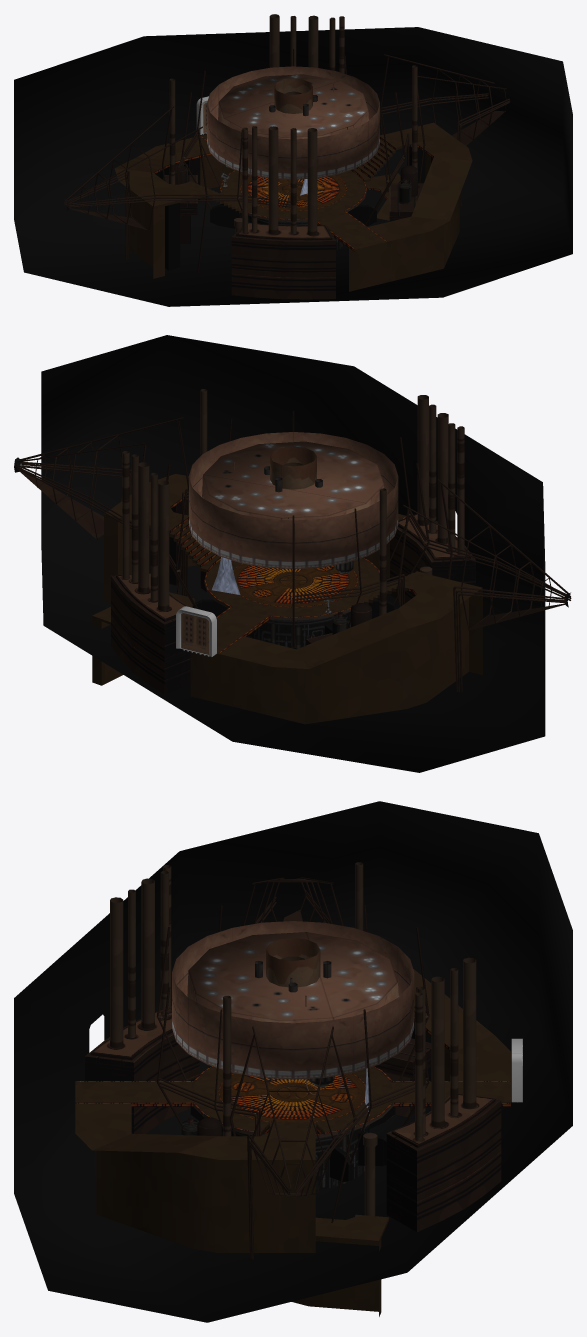
The model's file is env_carbonitechamber_pre.glb.
3 renders of one model, top to bottom at view 1: azimuth 30°, elevation 25°; view 2: azimuth 150°, elevation 25°; view 3: azimuth 270°, elevation 25°, orthographic. The views are drawn at different scales.
Parts seen in each view (by area): view 1: refinery_shell, refinery_ext_props, refinery_ceiling_01, refinery_walkway1, refinery_ext_props1, refinery_walkway, refinery_catwalk, refinery_platform, refinery_stairs, refinery_arm_01, refinery_walkway1 (1), refinery_floor_01B; view 2: refinery_shell, refinery_walkway, refinery_ceiling_01, refinery_ext_props1, refinery_ext_props, refinery_platform, refinery_catwalk, refinery_walkway1, refinery_floor_01B, bespin_door_03 (×2), refinery_stairs, refinery_arm_01 (+2 smaller); view 3: refinery_shell, refinery_ceiling_01, refinery_ext_props1, refinery_walkway1, refinery_ext_props, refinery_platform, refinery_walkway, refinery_walkway1 (1), refinery_catwalk, refinery_arm_01, refinery_floor_01B, bespin_door_03.
Part boxes in pixels (bbox=[...]): refinery_shell: bbox=[14, 27, 572, 306]; refinery_ext_props: bbox=[64, 70, 335, 299]; refinery_ceiling_01: bbox=[207, 66, 379, 184]; refinery_walkway1: bbox=[317, 122, 472, 291]; refinery_ext_props1: bbox=[269, 14, 510, 225]; refinery_walkway: bbox=[114, 134, 234, 278]; refinery_catwalk: bbox=[220, 170, 366, 219]; refinery_platform: bbox=[241, 175, 345, 210]; refinery_stairs: bbox=[184, 134, 402, 212]; refinery_arm_01: bbox=[274, 78, 312, 113]; refinery_walkway1 (1): bbox=[365, 173, 400, 220]; refinery_floor_01B: bbox=[220, 184, 367, 250]; refinery_shell: bbox=[41, 335, 545, 772]; refinery_walkway: bbox=[190, 574, 482, 724]; refinery_ceiling_01: bbox=[189, 432, 398, 573]; refinery_ext_props1: bbox=[14, 389, 294, 694]; refinery_ext_props: bbox=[291, 395, 571, 692]; refinery_platform: bbox=[233, 563, 356, 606]; refinery_catwalk: bbox=[204, 557, 379, 617]; refinery_walkway1: bbox=[104, 474, 406, 603]; refinery_floor_01B: bbox=[204, 574, 350, 649]; bespin_door_03 (×2): bbox=[176, 606, 216, 656]; refinery_stairs: bbox=[169, 513, 426, 606]; refinery_arm_01: bbox=[248, 446, 316, 565]; refinery_shell: bbox=[14, 801, 572, 1322]; refinery_ceiling_01: bbox=[172, 921, 414, 1095]; refinery_ext_props1: bbox=[157, 957, 501, 1259]; refinery_walkway1: bbox=[75, 1081, 315, 1252]; refinery_ext_props: bbox=[85, 862, 431, 1133]; refinery_platform: bbox=[219, 1073, 365, 1122]; refinery_walkway: bbox=[391, 969, 510, 1106]; refinery_walkway1 (1): bbox=[291, 1214, 389, 1316]; refinery_catwalk: bbox=[193, 1066, 393, 1134]; refinery_arm_01: bbox=[262, 938, 320, 1082]; refinery_floor_01B: bbox=[193, 1079, 392, 1190]; bespin_door_03: bbox=[511, 1038, 522, 1102].
Size of the model in its own units: 58.95 by 24.87 by 42.68.
10 materials, 9 textured.
